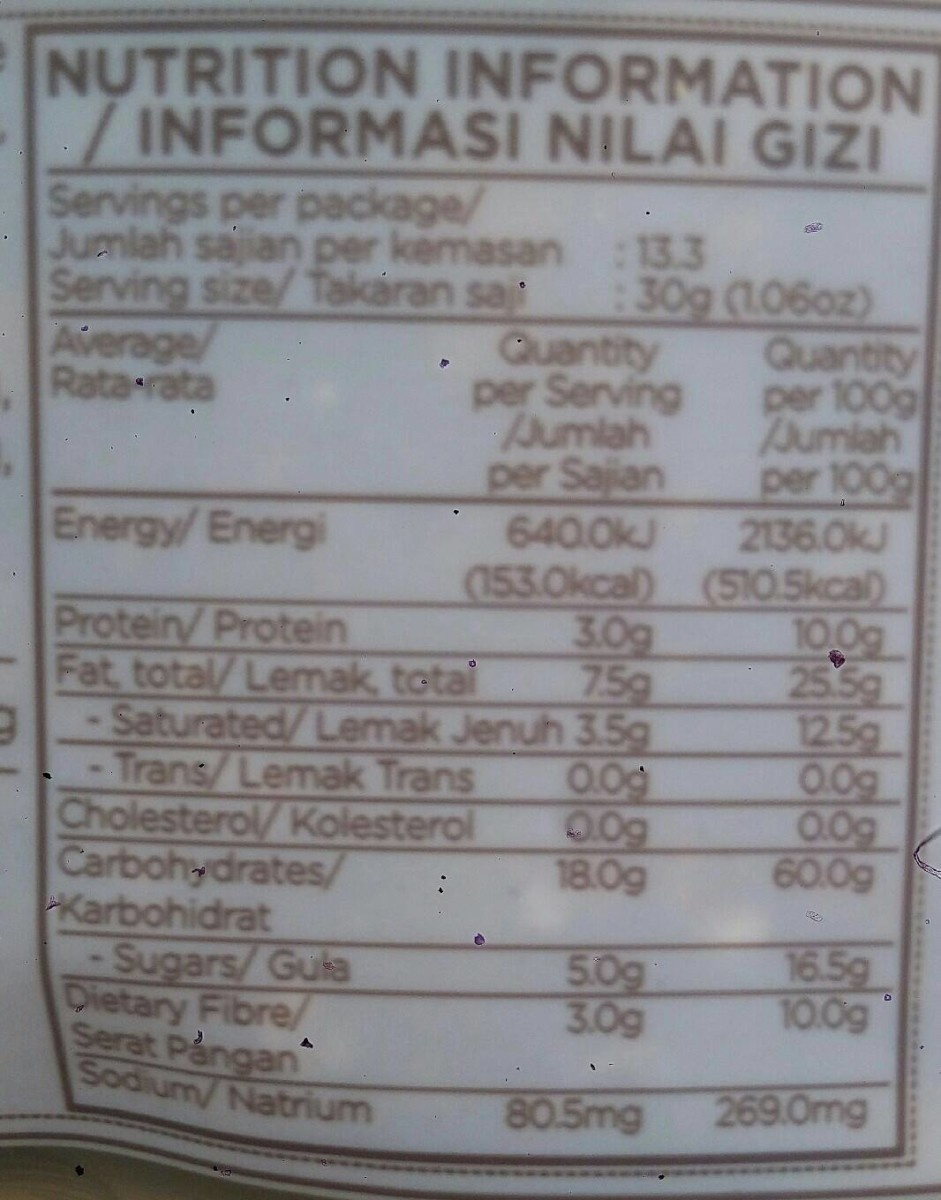column: (52, 323, 685, 1143), (698, 328, 920, 1141)
table: (20, 17, 925, 1172)
